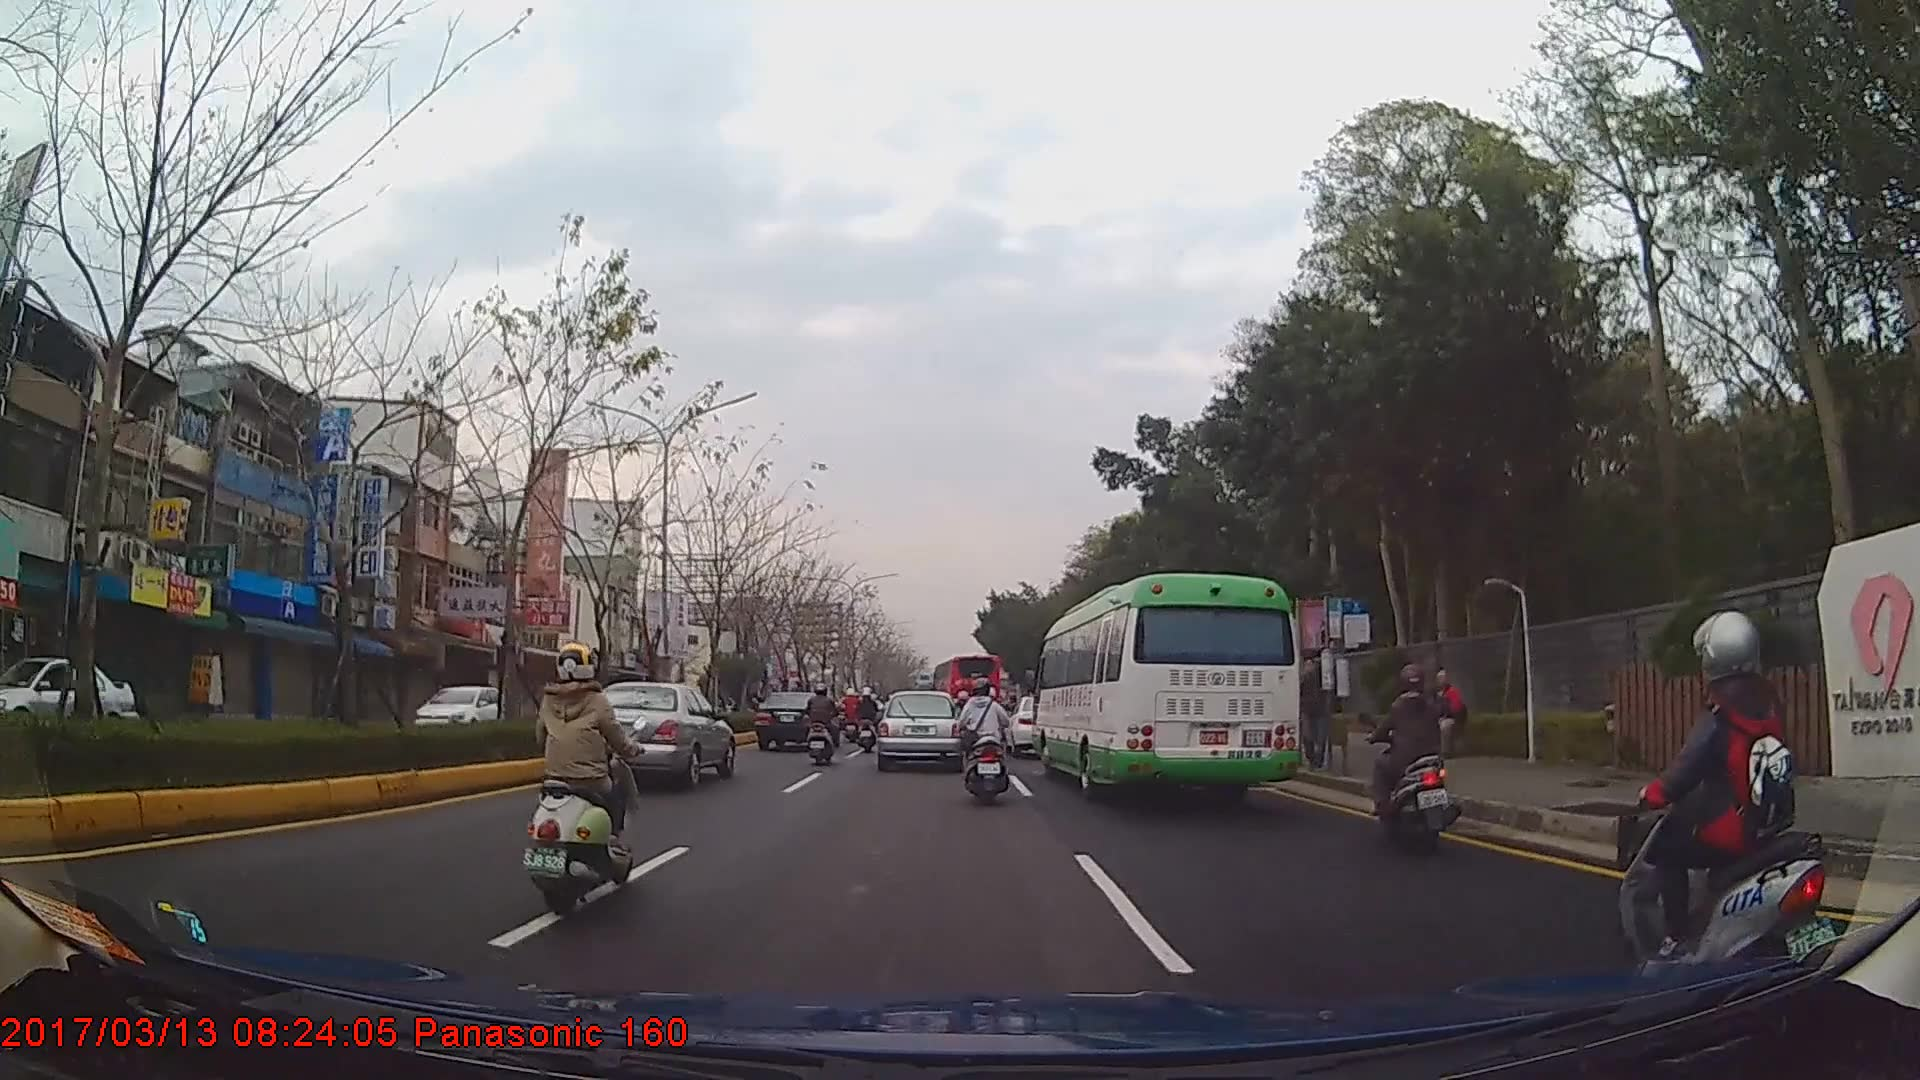pedestrian: (1413, 668, 1468, 760), (1300, 651, 1338, 775)
rider: (1625, 609, 1835, 1037), (518, 635, 629, 923), (1367, 652, 1462, 855), (954, 675, 1010, 802), (806, 681, 841, 766), (856, 685, 880, 752), (842, 687, 864, 743)
vehicle: (1029, 571, 1299, 801), (570, 679, 732, 788), (10, 651, 138, 746), (874, 687, 963, 767), (405, 680, 515, 739), (754, 689, 841, 753), (931, 648, 1000, 718)
